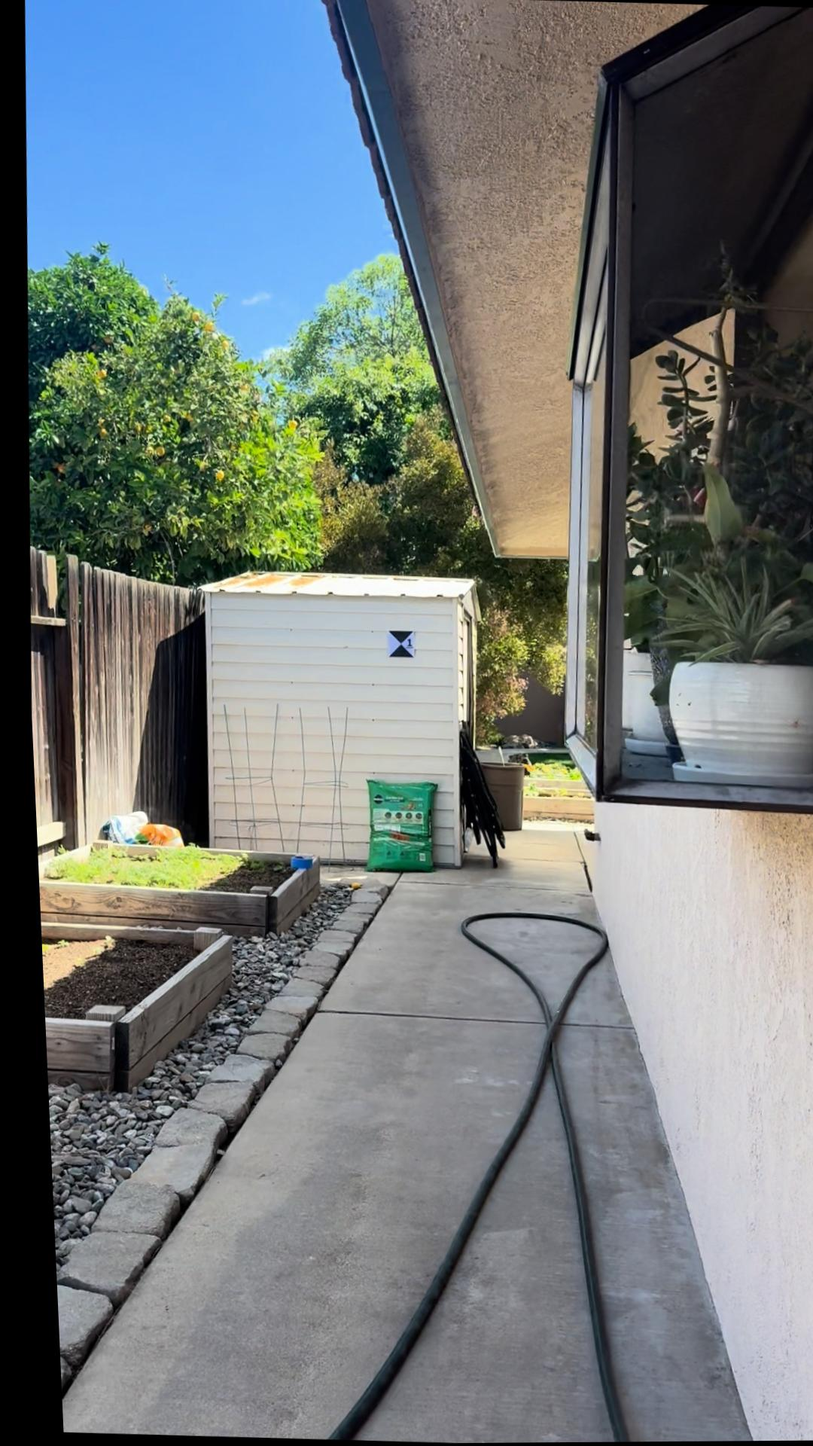target1: (383, 626, 420, 661)
